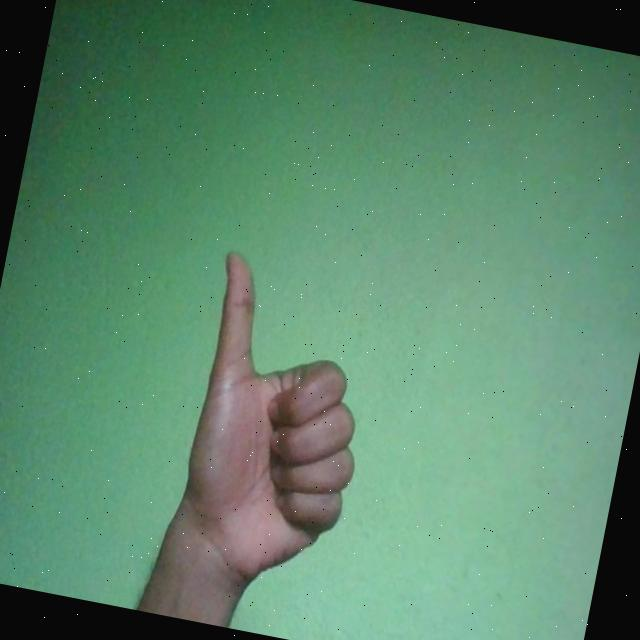Good Job: (165, 247, 392, 608)
